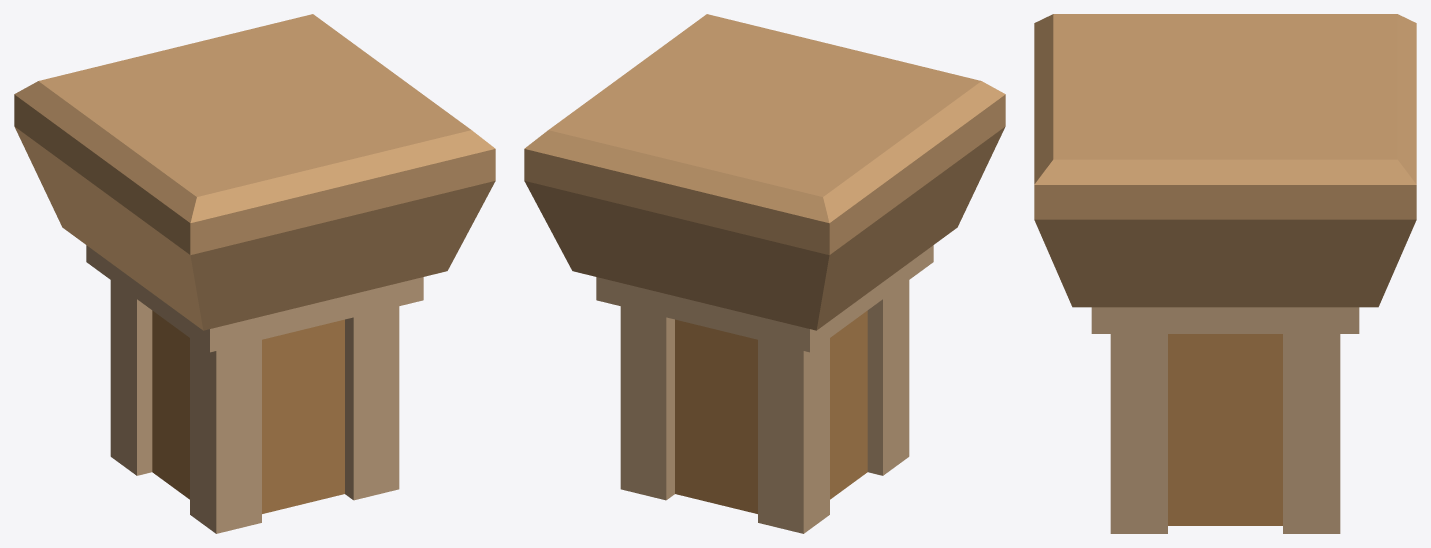
The model's file is Pillar_Large_Top.fbx.
3 views of the same model, side by side, from view 1: azimuth 30°, elevation 25°; view 2: azimuth 150°, elevation 25°; view 3: azimuth 270°, elevation 25° (orthographic). The views are drawn at different scales.
Parts seen in each view (by area): view 1: Sandstone_5.object1, Sandstone_4.Sandstone_4.Sandstone_4.Sandstone_4.object2, Sandstone_6.Sandstone_6.Sandstone_6.Sandstone_6, Sandstone_4; view 2: Sandstone_5.object1, Sandstone_4.Sandstone_4.Sandstone_4.Sandstone_4.object2, Sandstone_6.Sandstone_6.Sandstone_6.Sandstone_6, Sandstone_4; view 3: Sandstone_5.object1, Sandstone_4.Sandstone_4.Sandstone_4.Sandstone_4.object2, Sandstone_6.Sandstone_6.Sandstone_6.Sandstone_6, Sandstone_4.
Boxes of the visible parts, bbox=[...] form: Sandstone_5.object1: bbox=[14, 14, 495, 330]; Sandstone_4.Sandstone_4.Sandstone_4.Sandstone_4.object2: bbox=[110, 280, 399, 533]; Sandstone_6.Sandstone_6.Sandstone_6.Sandstone_6: bbox=[152, 310, 344, 513]; Sandstone_4: bbox=[86, 245, 423, 352]; Sandstone_5.object1: bbox=[524, 14, 1005, 330]; Sandstone_4.Sandstone_4.Sandstone_4.Sandstone_4.object2: bbox=[620, 280, 909, 533]; Sandstone_6.Sandstone_6.Sandstone_6.Sandstone_6: bbox=[675, 310, 867, 513]; Sandstone_4: bbox=[596, 245, 933, 352]; Sandstone_5.object1: bbox=[1034, 14, 1416, 307]; Sandstone_4.Sandstone_4.Sandstone_4.Sandstone_4.object2: bbox=[1110, 334, 1340, 533]; Sandstone_6.Sandstone_6.Sandstone_6.Sandstone_6: bbox=[1168, 334, 1282, 525]; Sandstone_4: bbox=[1091, 307, 1359, 333].
Size of the model in its own units: 1 by 1.15 by 1.
